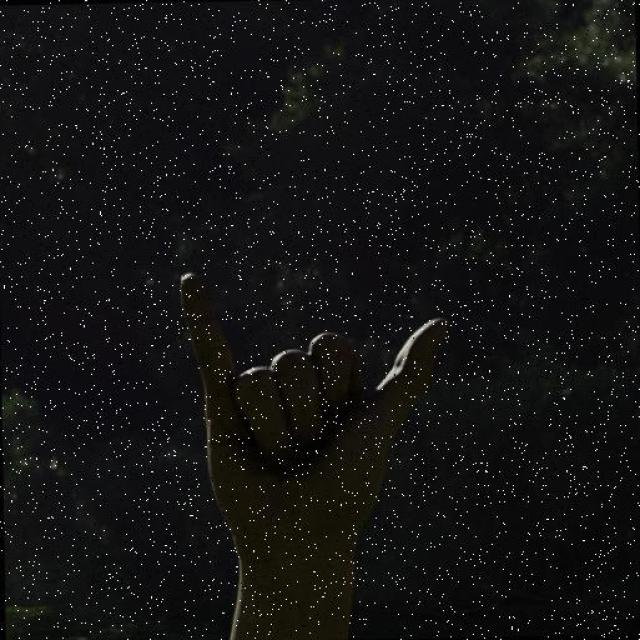Y: (169, 264, 456, 574)
